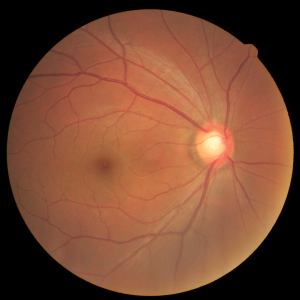glaucoma: (73, 99, 261, 210)
